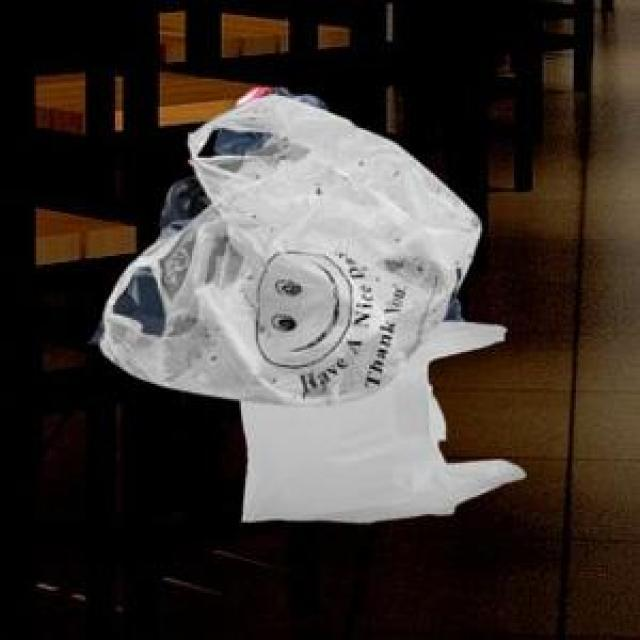miscellaneous trash: (85, 83, 458, 339)
